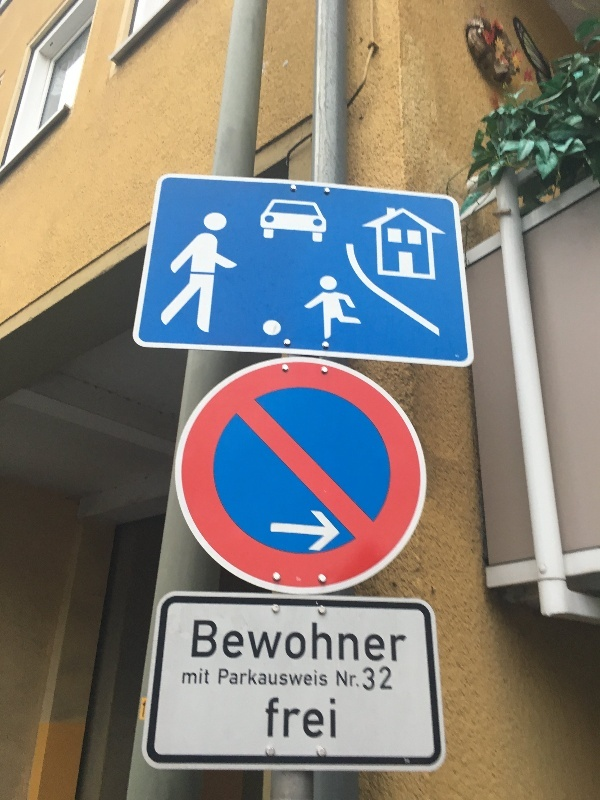text: (273, 695, 288, 743), (289, 695, 304, 743), (305, 695, 320, 743), (321, 695, 336, 743), (193, 618, 208, 665), (209, 618, 224, 665), (225, 618, 240, 665), (241, 618, 256, 665), (257, 618, 272, 665), (273, 618, 288, 665), (289, 618, 304, 665), (305, 618, 320, 665), (321, 618, 336, 665), (337, 618, 352, 665), (353, 618, 368, 665), (369, 618, 384, 665), (385, 618, 400, 665), (337, 664, 352, 693), (353, 664, 368, 693), (369, 664, 384, 693), (265, 695, 272, 743), (401, 618, 408, 665), (225, 667, 240, 688), (241, 667, 256, 688), (257, 667, 272, 688), (273, 667, 288, 688), (289, 667, 304, 688), (305, 667, 320, 688), (193, 667, 208, 686), (385, 664, 394, 693), (183, 667, 192, 686), (321, 667, 329, 688), (219, 667, 224, 688), (337, 695, 338, 743), (209, 667, 211, 686)
